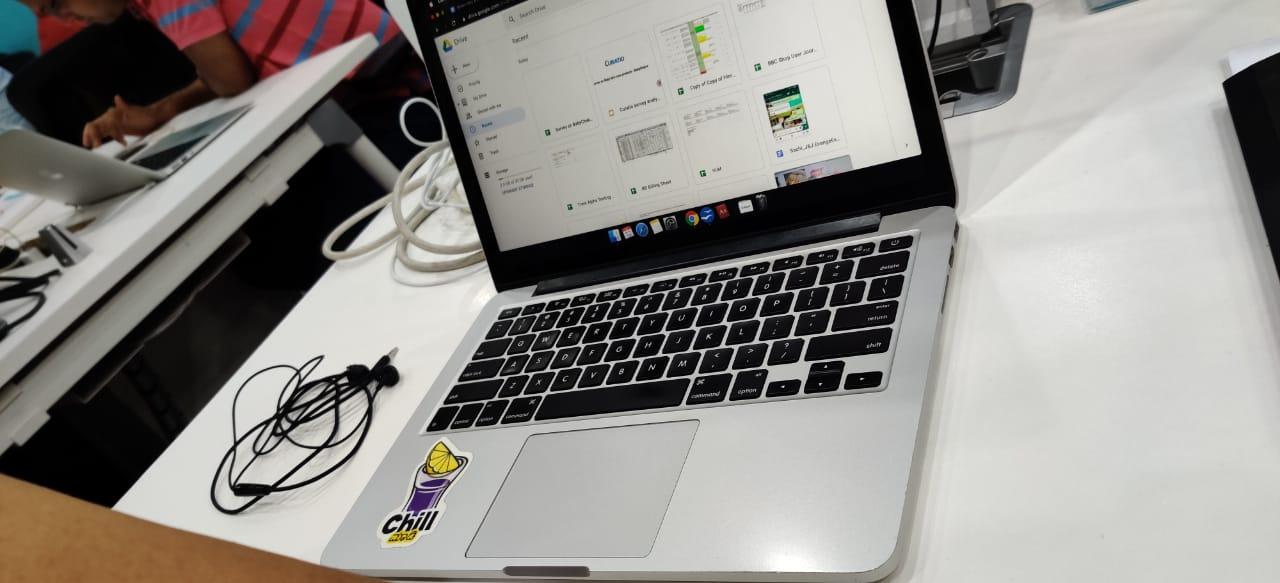laptop: (308, 3, 971, 575)
